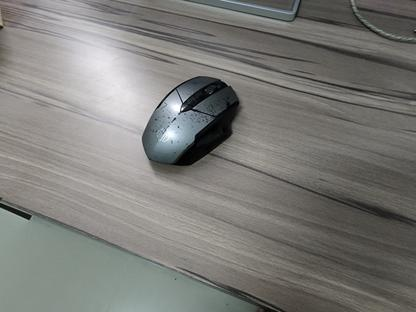mouse: (141, 75, 239, 167)
